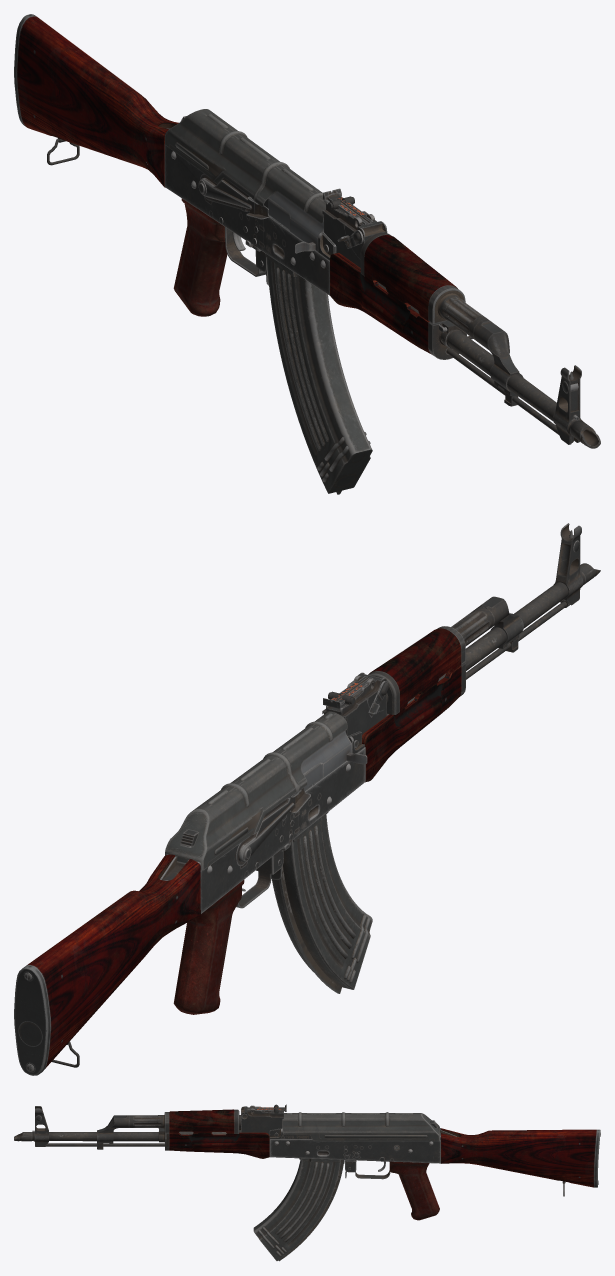
The picture shows the model from 3 angles, top to bottom: view 1: azimuth 30°, elevation 25°; view 2: azimuth 150°, elevation 25°; view 3: azimuth 270°, elevation 25°; orthographic projection. The views are drawn at different scales.
Visible parts, largest first — view 1: WPN_AKM, WPN_AKM_magazine, WPN_AKM_bolt_carrier, WPN_AKM_safetyswitch, WPN_AKM_rear_sight_leaf; view 2: WPN_AKM, WPN_AKM_magazine, WPN_AKM_bolt_carrier, WPN_AKM_safetyswitch; view 3: WPN_AKM, WPN_AKM_magazine.
Boxes of the visible parts, left/top/right/bottom form: WPN_AKM: left=14, top=14, right=600, bottom=448; WPN_AKM_magazine: left=265, top=253, right=372, bottom=494; WPN_AKM_bolt_carrier: left=268, top=191, right=323, bottom=253; WPN_AKM_safetyswitch: left=198, top=173, right=268, bottom=219; WPN_AKM_rear_sight_leaf: left=323, top=188, right=373, bottom=224; WPN_AKM: left=14, top=523, right=600, bottom=1075; WPN_AKM_magazine: left=272, top=812, right=372, bottom=993; WPN_AKM_bolt_carrier: left=288, top=731, right=367, bottom=797; WPN_AKM_safetyswitch: left=236, top=787, right=310, bottom=866; WPN_AKM: left=14, top=1105, right=600, bottom=1220; WPN_AKM_magazine: left=253, top=1158, right=344, bottom=1261.
Size of the model in its own units: 5.68 by 25.58 by 88.06.
1 material, 1 textured.
